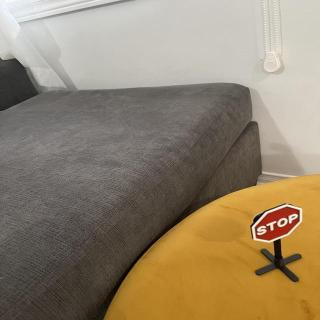sign_stop: (252, 203, 305, 245)
